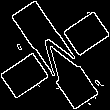M_SE: (22, 21, 88, 89)
